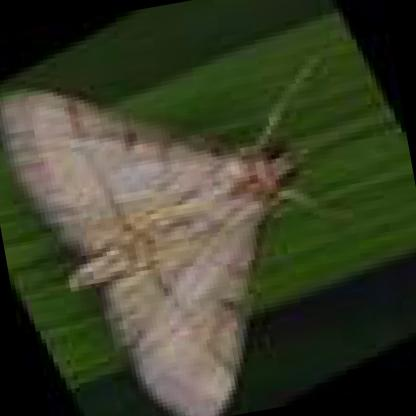Leaf Webber: (0, 85, 303, 416)
